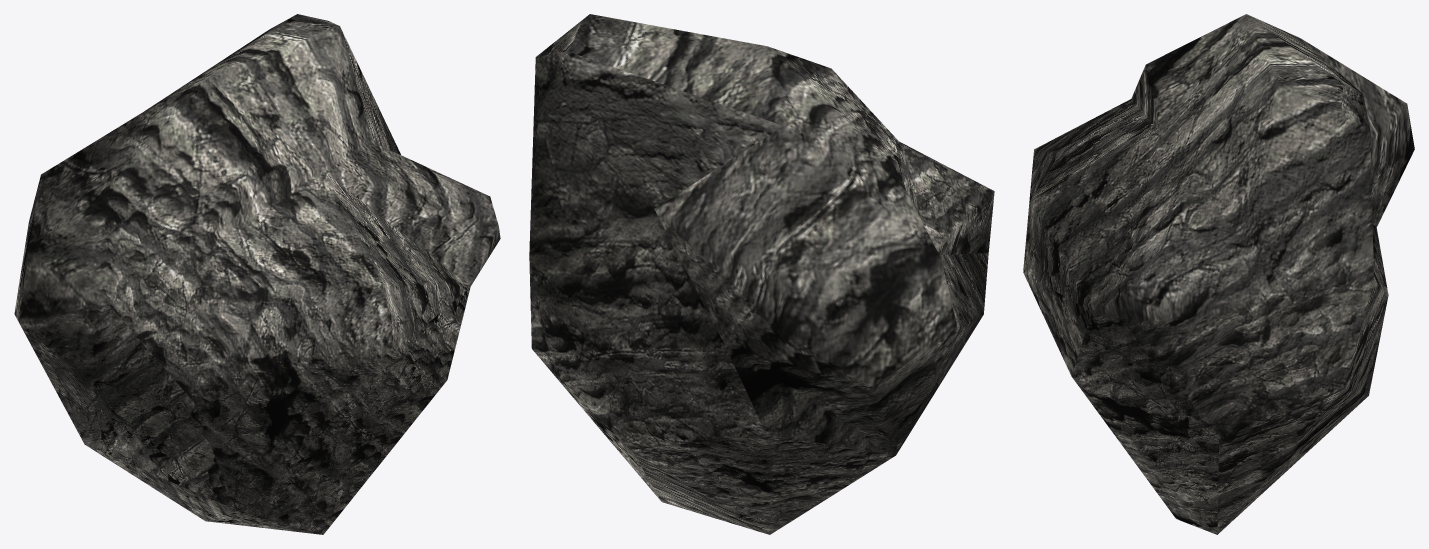
The model's file is Map0001f_Aerolite010.fbx.
3 renders of one model, left to right at view 1: azimuth 30°, elevation 25°; view 2: azimuth 150°, elevation 25°; view 3: azimuth 270°, elevation 25°, orthographic. The views are drawn at different scales.
Visible parts, largest first — view 1: Map0001f_Aerolite010; view 2: Map0001f_Aerolite010; view 3: Map0001f_Aerolite010.
Part boxes in pixels (box(x1,y1,x2,y2)): Map0001f_Aerolite010: box(14, 14, 500, 534); Map0001f_Aerolite010: box(529, 14, 994, 534); Map0001f_Aerolite010: box(1023, 14, 1414, 534).
Bounding box in the file's own units: 3060 × 3178 × 2396.
